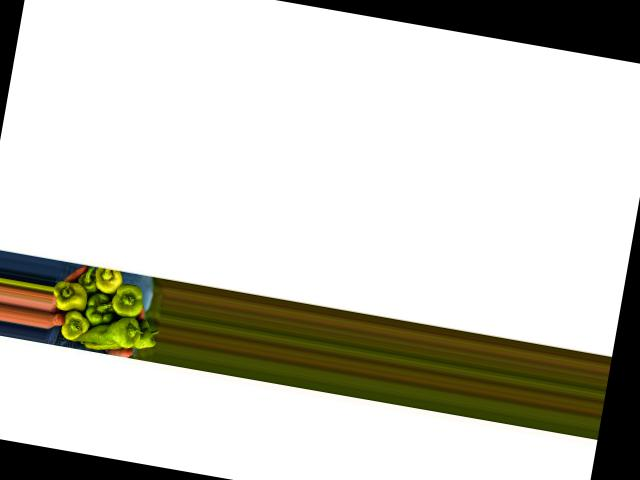bell_pepper: (52, 276, 92, 312)
